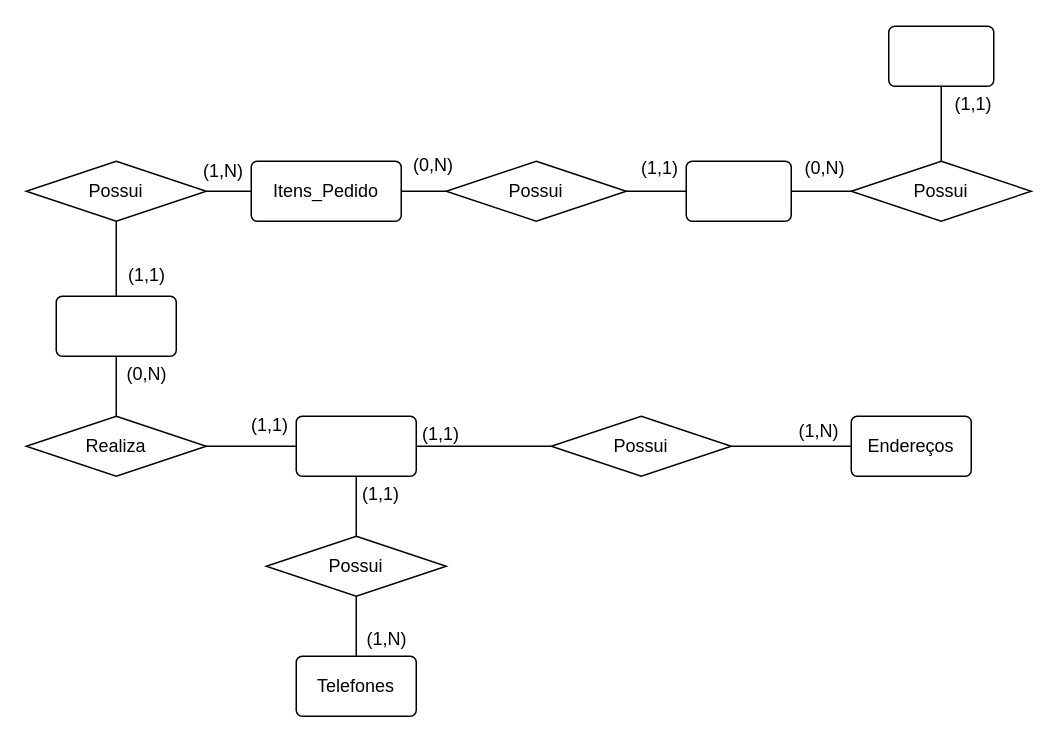
This 1058x743 diagram has some shape labels left out. Each missing label, with the centre of its shape:
"Categorias" belongs at pixel 940 55.
"Clientes" belongs at pixel 355 445.
"Pedidos" belongs at pixel 115 325.
"Produtos" belongs at pixel 738 190.
